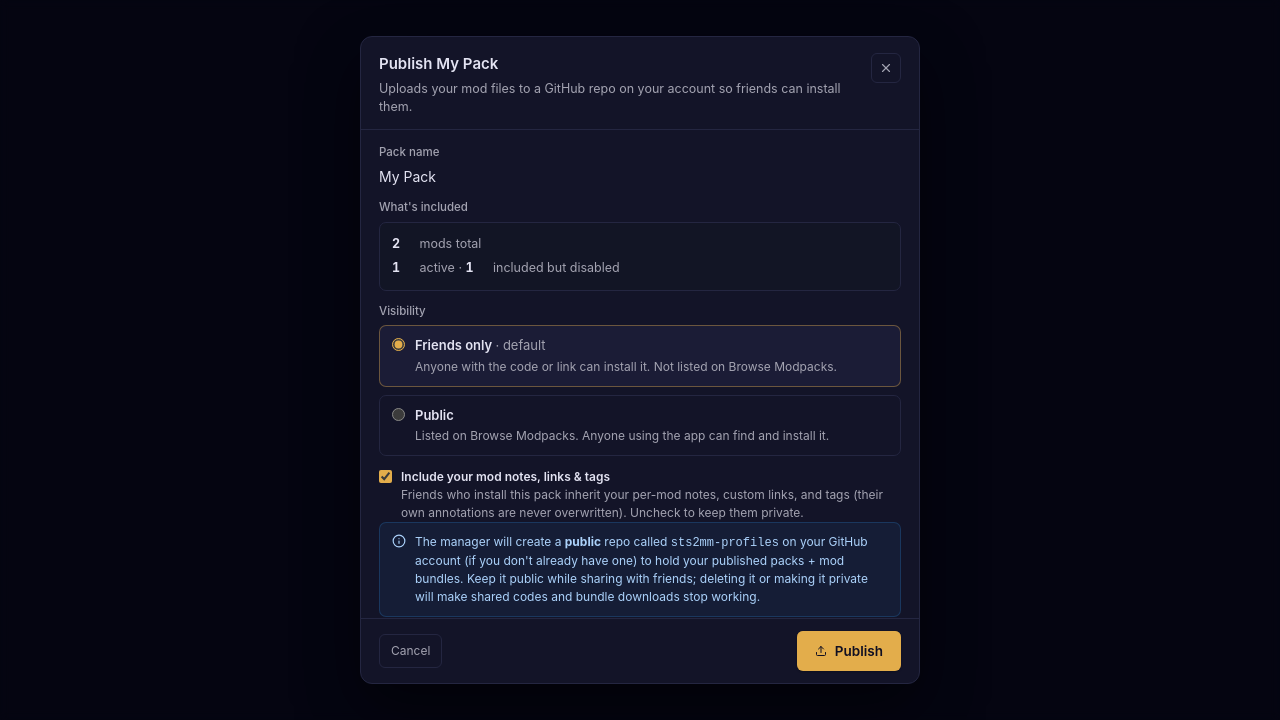
<PublishModal> › partial-fail: surfaces failed_uploads warning + error toast (≤5)
Click the button "Publish" at (849, 651), box [797,631,901,671]
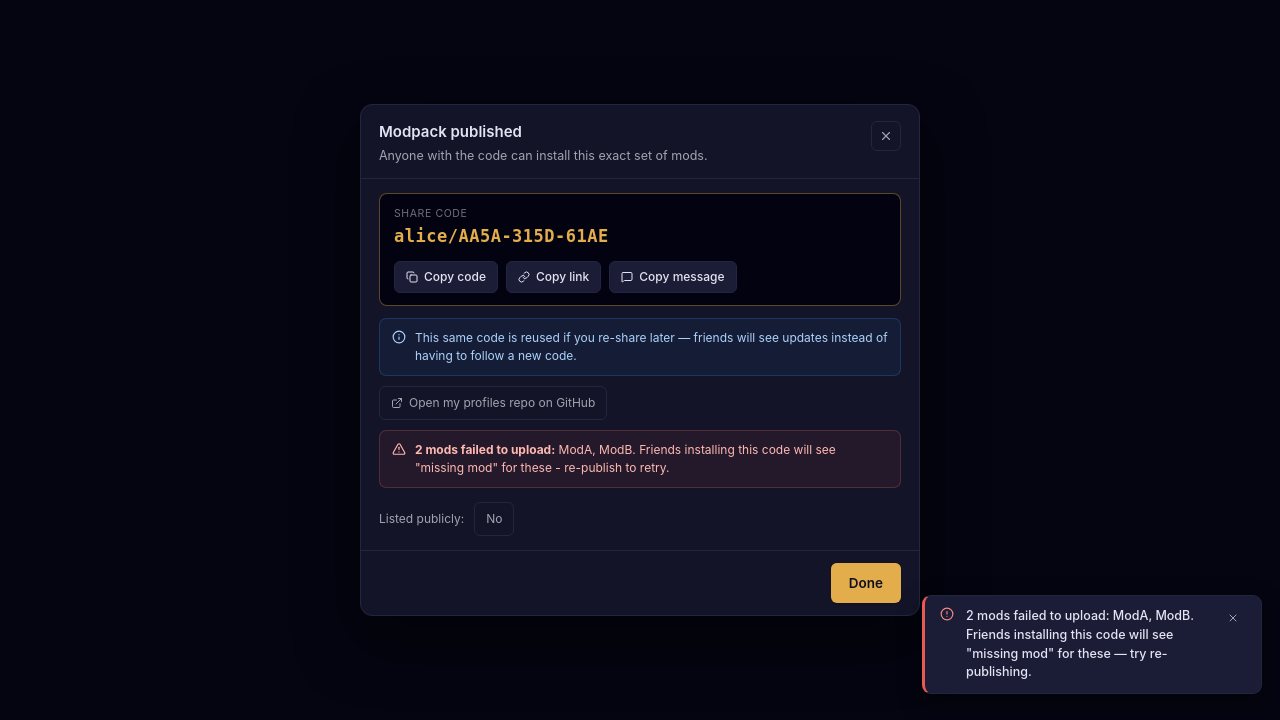
Expected: the text "Modpack published" is shown, [379,122,522,141]
Expected: the text "2 mods failed to upload: ModA, ModB" is shown, [966,608,1194,679]
Expected: the text "2 mods failed to upload:" is shown, [415,442,555,457]
